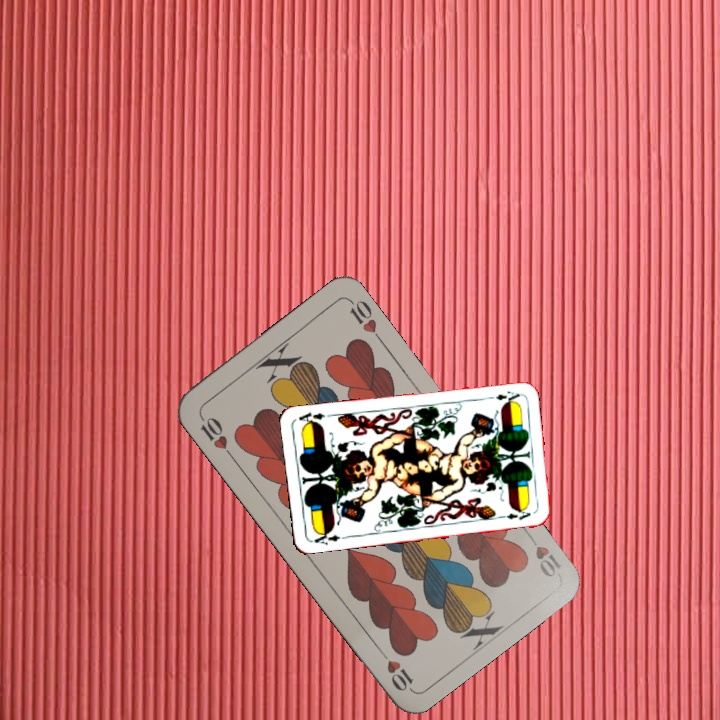EA: (308, 527, 349, 547), (482, 387, 522, 405)
H10: (522, 527, 565, 580), (195, 411, 236, 461)
